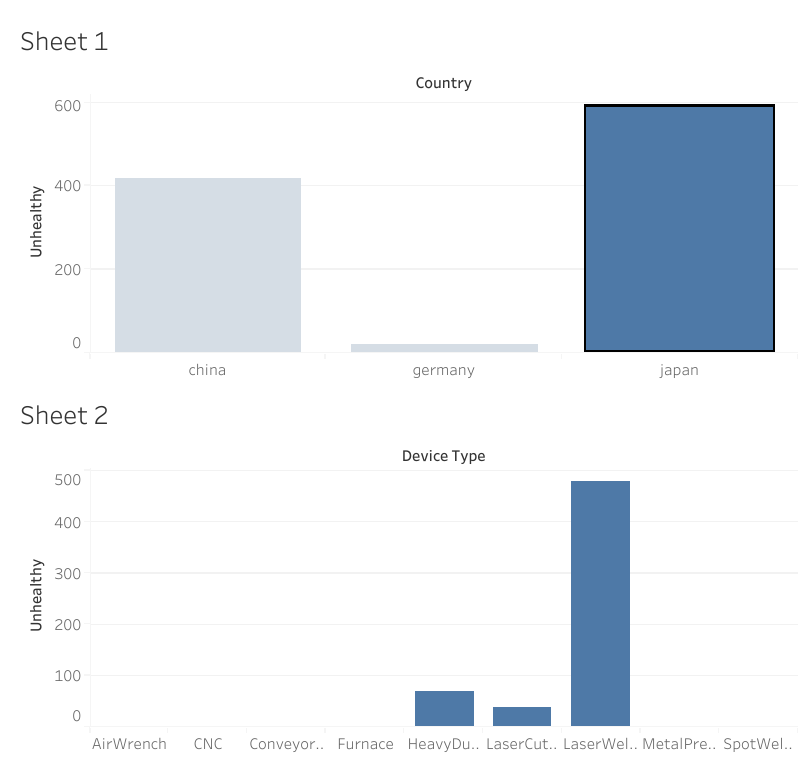

The page's visual inventory and layout, read from the dashboard file:
{"tool":"tableau","page":{"name":"Dashboard 1","canvas":[650,860],"ordinal":0},"visuals":[{"type":"worksheet","title":"Sheet 1","mark":"Automatic","rows":["Calculation_0906830214414336"],"cols":["country"],"box":[8,10.3,634,419.7]},{"type":"worksheet","title":"Sheet 2","mark":"Automatic","rows":["Calculation_0906830214414336"],"cols":["deviceType"],"box":[8,430,634,419.7]}]}

Visuals, with their boxes on the page's 650x860 design canvas (x1, y1, x2, y2). These are canvas units, not pixel positions in the 811x768 screenshot, which may show the page scaled, cropped or inside an application window:
"Sheet 1" worksheet: locate(8, 10, 642, 430)
"Sheet 2" worksheet: locate(8, 430, 642, 850)
